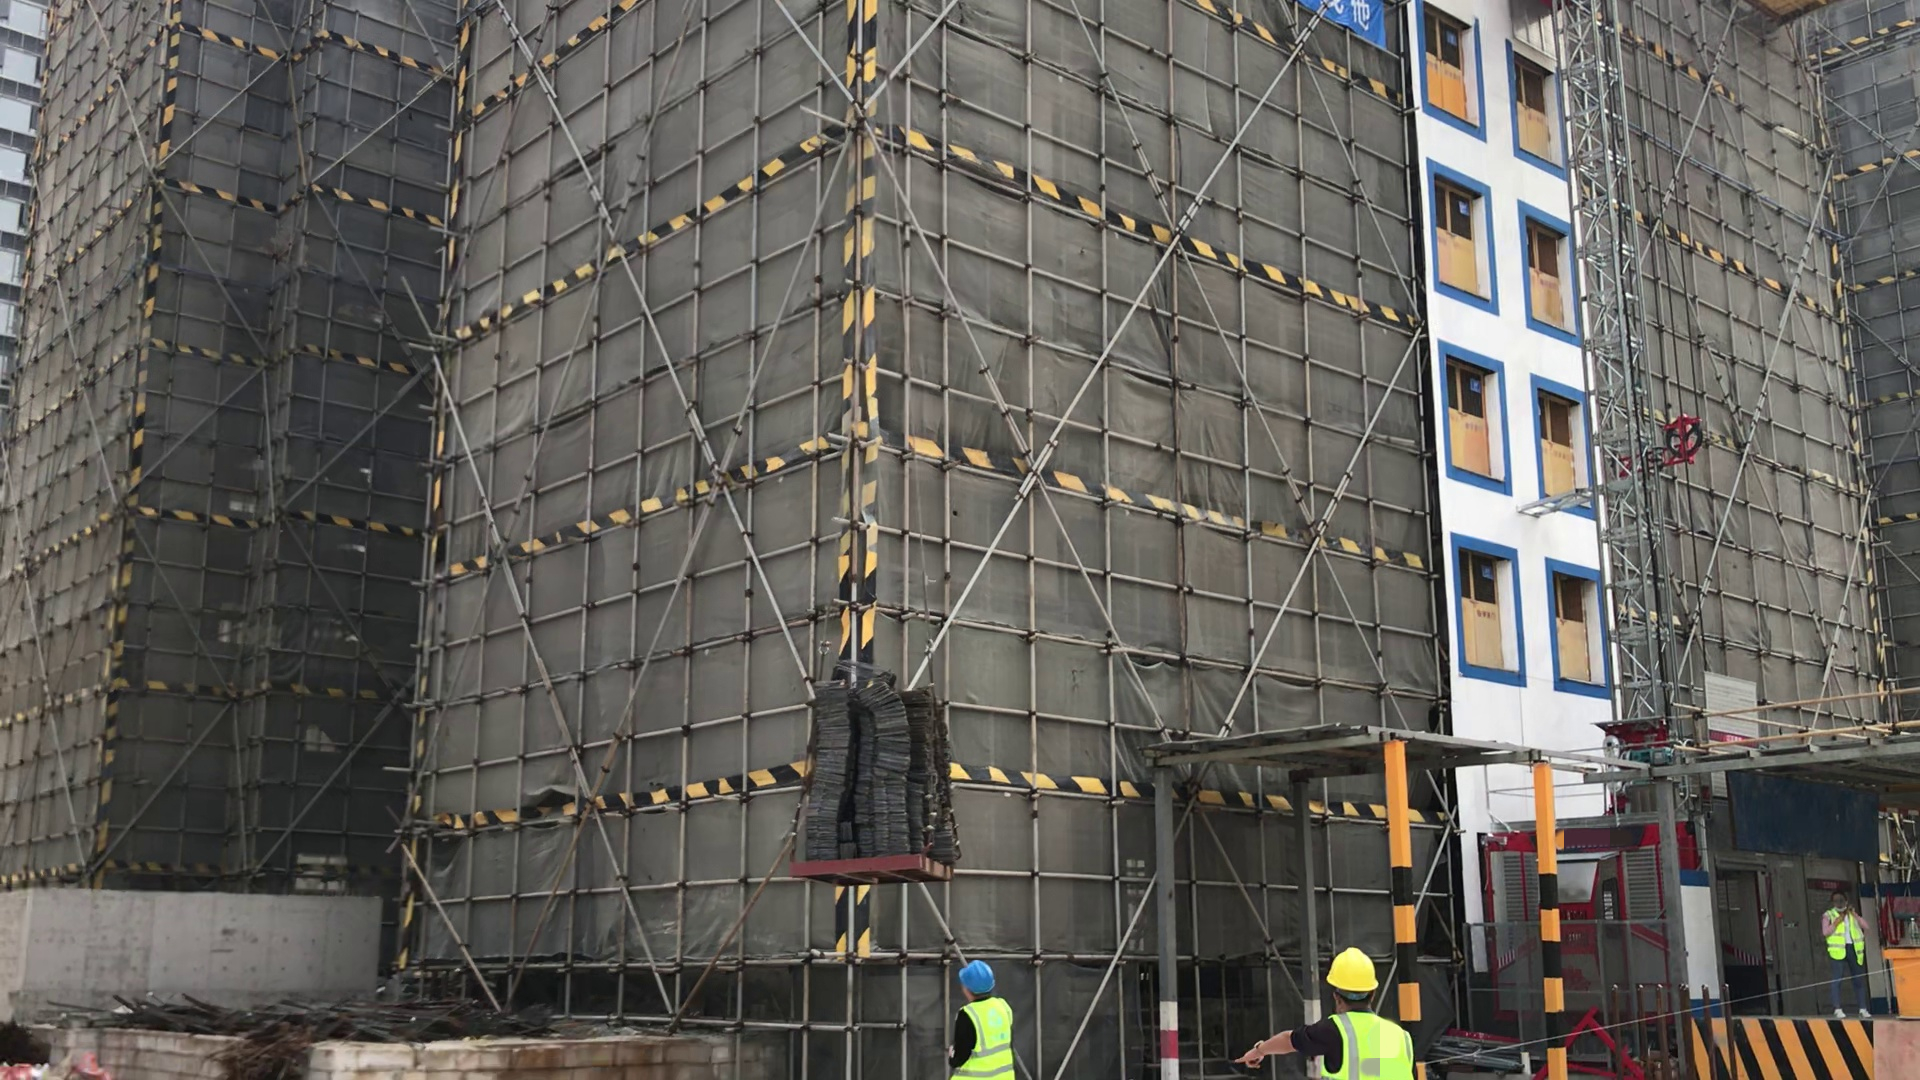helmet: (1323, 947, 1379, 993), (959, 959, 997, 995)
person: (1215, 945, 1415, 1080), (943, 958, 1017, 1080), (1817, 887, 1880, 1016)
slogan: (1299, 3, 1393, 38)
vest: (1320, 1010, 1410, 1080), (951, 998, 1015, 1080), (1824, 910, 1864, 965)
